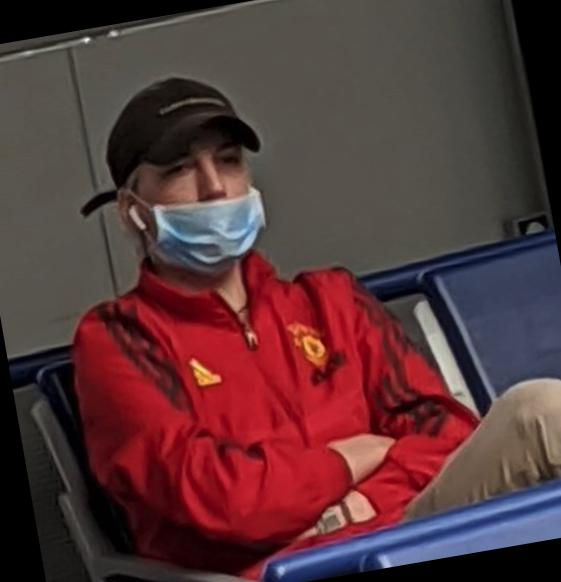mask_weared_incorrect: (138, 148, 275, 265)
